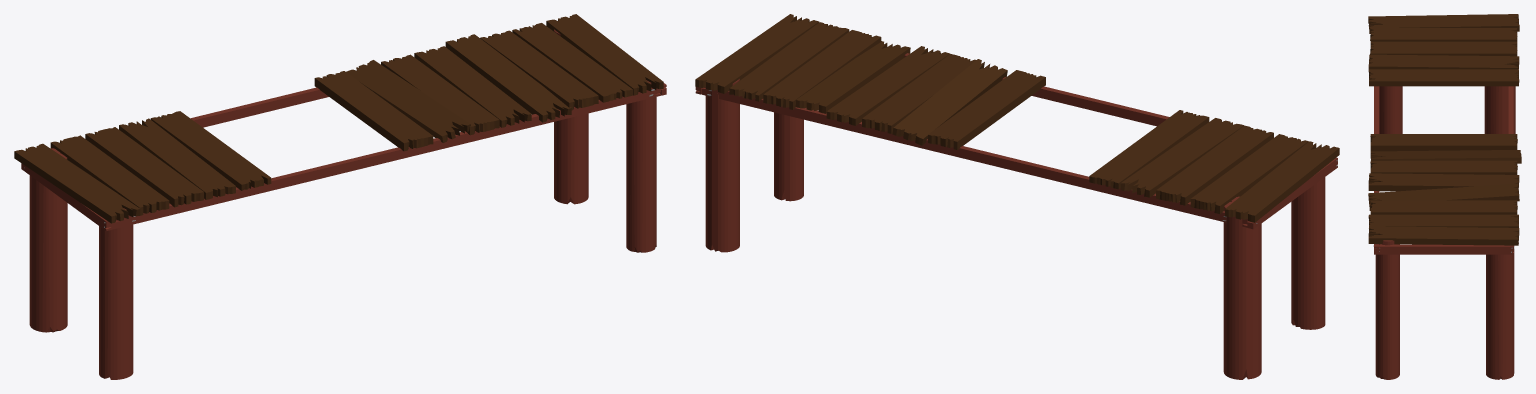
The model's file is deck rectangle 3.fbx.
3 views of the same model, side by side, from view 1: azimuth 30°, elevation 25°; view 2: azimuth 150°, elevation 25°; view 3: azimuth 270°, elevation 25° (orthographic). The views are drawn at different scales.
Parts seen in each view (by area): view 1: Cylinder, Cylinder.003, Cube.002, Cylinder.002, Cube.012, Cube.007, Cube.016, Cube.005, Cube.008, Cube.004, Cube.015, Cube.014 (+8 smaller); view 2: Cylinder, Cylinder.001, Cube.003, Cylinder.003, Cube.007, Cube.005, Cube.016, Cube.008, Cube.014, Cube.004, Cube.015, Cube.006 (+8 smaller); view 3: Cylinder.001, Cylinder.002, Cube.014, Cube.004, Cube.007, Cube.006, Cube.011, Cube.010, Cube.008, Cube.009, Cube.015, Cube.013 (+8 smaller).
Part boxes in pixels (x1=…): Cylinder: x1=29, y1=148, x2=67, y2=332; Cylinder.003: x1=99, y1=208, x2=133, y2=379; Cube.002: x1=112, y1=87, x2=660, y2=229; Cylinder.002: x1=626, y1=80, x2=656, y2=252; Cube.012: x1=445, y1=34, x2=571, y2=122; Cube.007: x1=314, y1=71, x2=433, y2=151; Cube.016: x1=14, y1=143, x2=140, y2=223; Cube.005: x1=346, y1=60, x2=470, y2=142; Cube.008: x1=85, y1=127, x2=203, y2=207; Cube.004: x1=150, y1=111, x2=271, y2=190; Cube.015: x1=50, y1=135, x2=169, y2=215; Cube.014: x1=546, y1=14, x2=663, y2=95; Cylinder: x1=1223, y1=196, x2=1261, y2=379; Cylinder.001: x1=705, y1=79, x2=739, y2=252; Cube.003: x1=701, y1=87, x2=1248, y2=227; Cylinder.003: x1=1291, y1=177, x2=1325, y2=329; Cube.007: x1=928, y1=70, x2=1045, y2=149; Cube.005: x1=892, y1=59, x2=1007, y2=145; Cube.016: x1=1225, y1=141, x2=1339, y2=222; Cube.008: x1=1156, y1=125, x2=1273, y2=205; Cube.014: x1=695, y1=14, x2=819, y2=93; Cube.004: x1=1089, y1=110, x2=1209, y2=189; Cube.015: x1=1190, y1=134, x2=1308, y2=213; Cube.006: x1=1120, y1=118, x2=1244, y2=197; Cylinder.001: x1=1486, y1=246, x2=1514, y2=379; Cylinder.002: x1=1375, y1=240, x2=1399, y2=379; Cube.014: x1=1368, y1=226, x2=1519, y2=245; Cube.004: x1=1369, y1=69, x2=1519, y2=86; Cube.007: x1=1370, y1=134, x2=1517, y2=151; Cube.006: x1=1368, y1=54, x2=1519, y2=71; Cube.011: x1=1368, y1=173, x2=1519, y2=191; Cube.010: x1=1370, y1=200, x2=1517, y2=214; Cube.008: x1=1370, y1=41, x2=1517, y2=56; Cube.009: x1=1370, y1=160, x2=1517, y2=174; Cube.015: x1=1370, y1=28, x2=1517, y2=41; Cube.013: x1=1368, y1=214, x2=1518, y2=230.
Size of the model in its own units: 3822 by 1134 by 1093.
